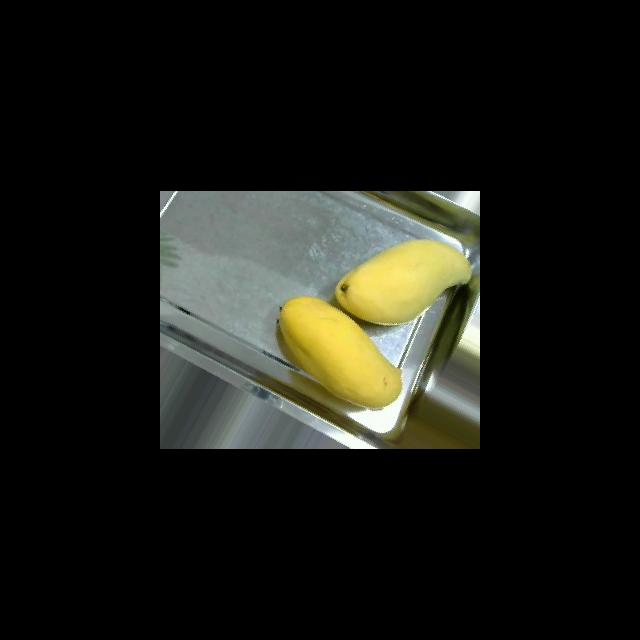mango: (277, 295, 403, 409), (334, 238, 472, 325)
